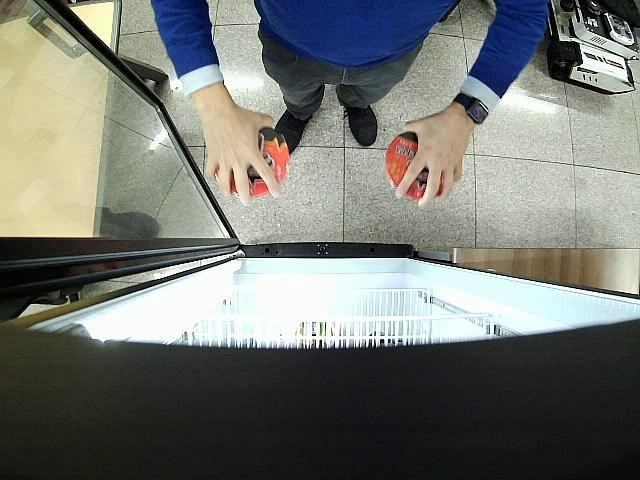01_ShinRamen_L: (215, 126, 291, 200), (386, 132, 442, 202)
